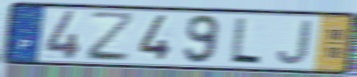4: (43, 9, 83, 62), (137, 13, 173, 64)
9: (182, 13, 222, 66)
J: (275, 19, 314, 67)
L: (226, 16, 264, 66)
Z: (86, 11, 137, 64)
